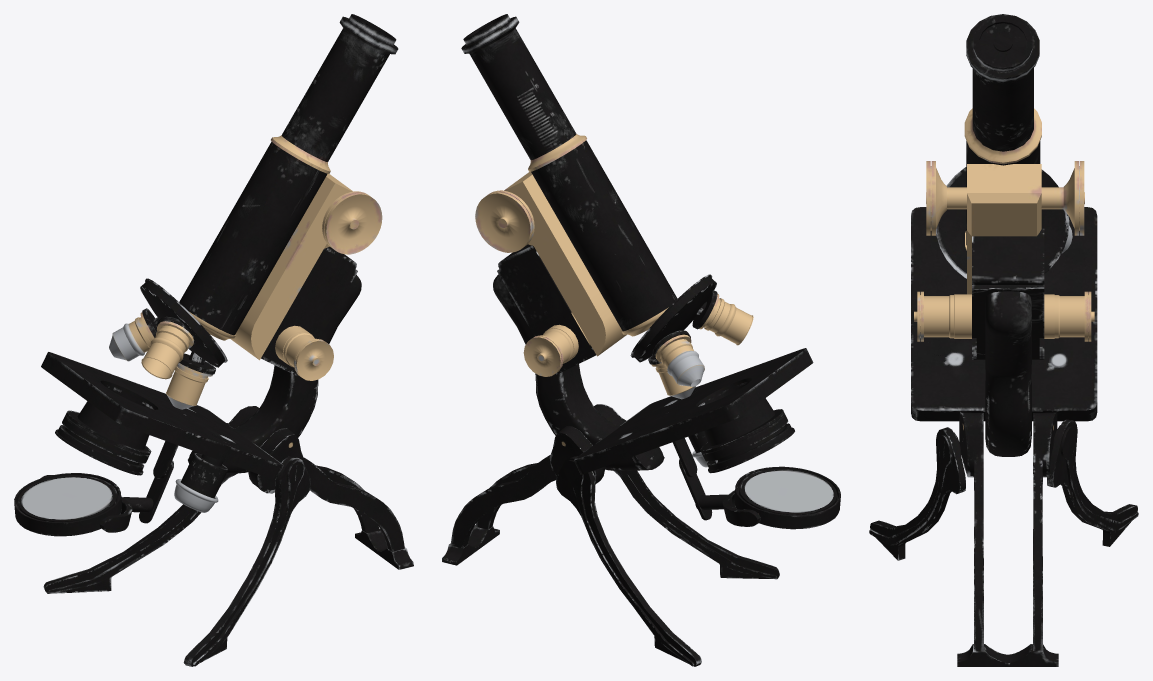
The picture shows the model from 3 angles, left to right: view 1: azimuth 30°, elevation 25°; view 2: azimuth 150°, elevation 25°; view 3: azimuth 270°, elevation 25°; orthographic projection. The views are drawn at different scales.
Parts seen in each view (by area): view 1: Geode (×22); view 2: Geode (×20); view 3: Geode (×14).
Boxes of the visible parts, bbox=[...] form: Geode (×22): bbox=[14, 14, 413, 666]; Geode (×20): bbox=[442, 14, 840, 666]; Geode (×14): bbox=[869, 14, 1138, 666].
Size of the model in its own units: 1.41 by 2 by 0.759.
1 material, 1 textured.
